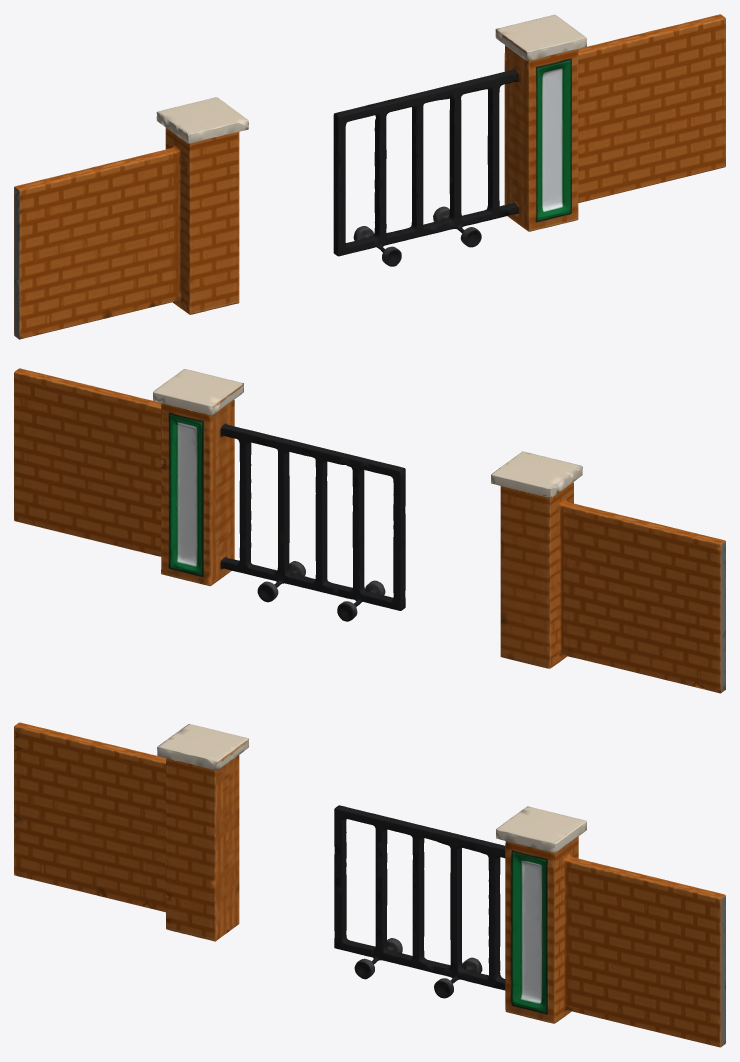
The model's file is gate.glb.
3 views of the same model, one above another, from view 1: azimuth 30°, elevation 25°; view 2: azimuth 150°, elevation 25°; view 3: azimuth 330°, elevation 25° (orthographic).
Size of the model in its own units: 1.9 by 0.4747 by 0.1506.
Materials: 1 (1 with a texture image).
